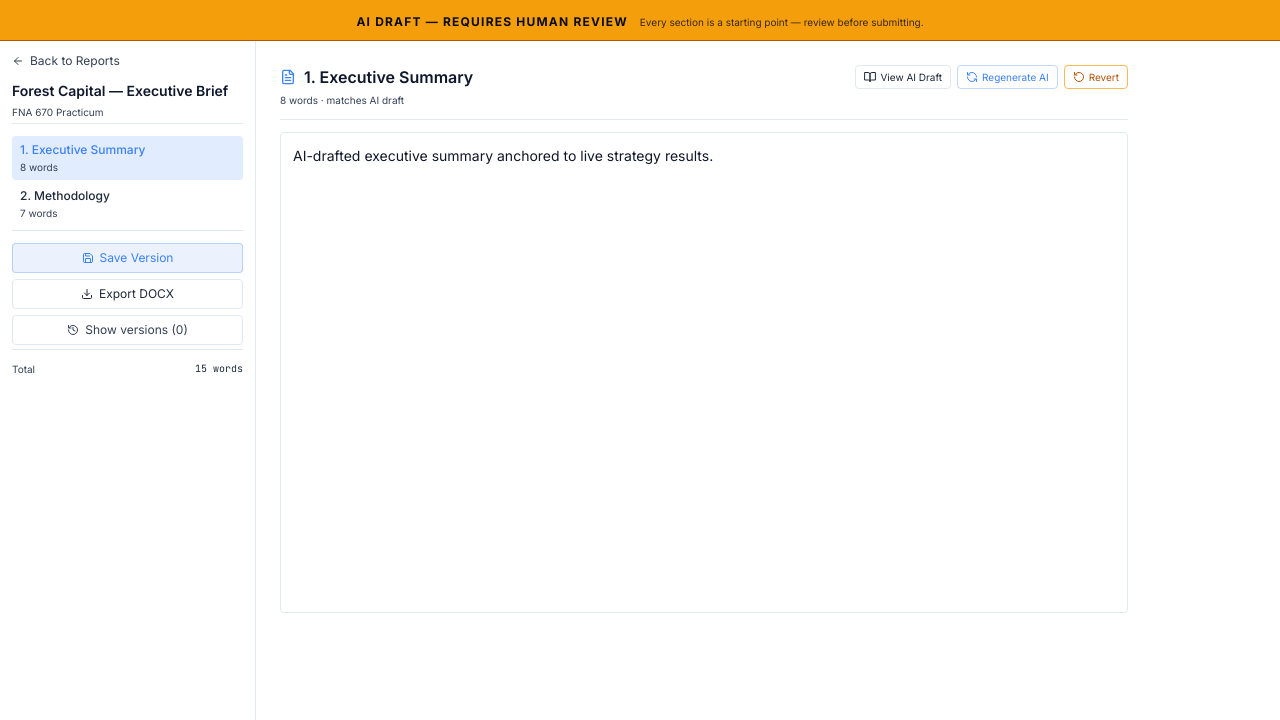
Test case: SectionEditor — rendering › opens the View AI Draft panel on click
The image size is (1280, 720).
Click the button with test id "view-ai-draft-button" at (903, 77), box top-left (855, 65), bottom-right (951, 89)
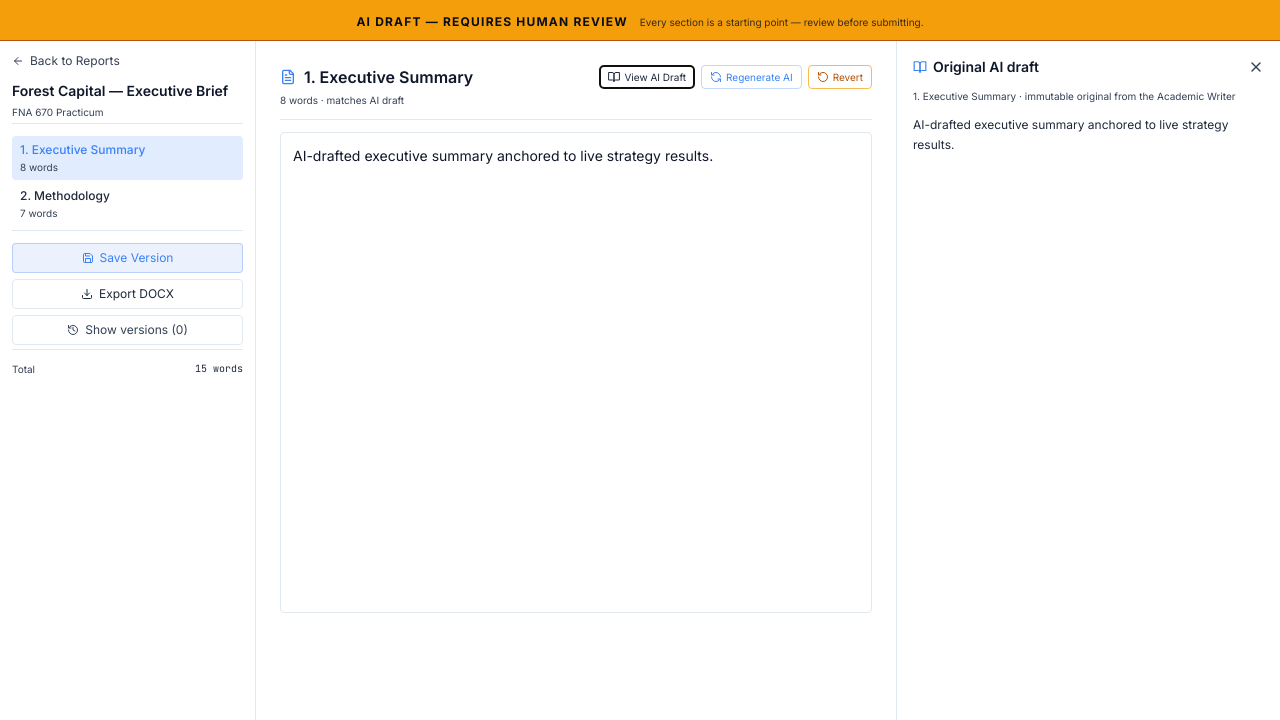
Expected: the text box "AI-drafted executive summary" is shown, top-left (280, 132), bottom-right (872, 613)
Expected: the element with test id "ai-draft-panel" is shown, top-left (896, 41), bottom-right (1279, 719)
